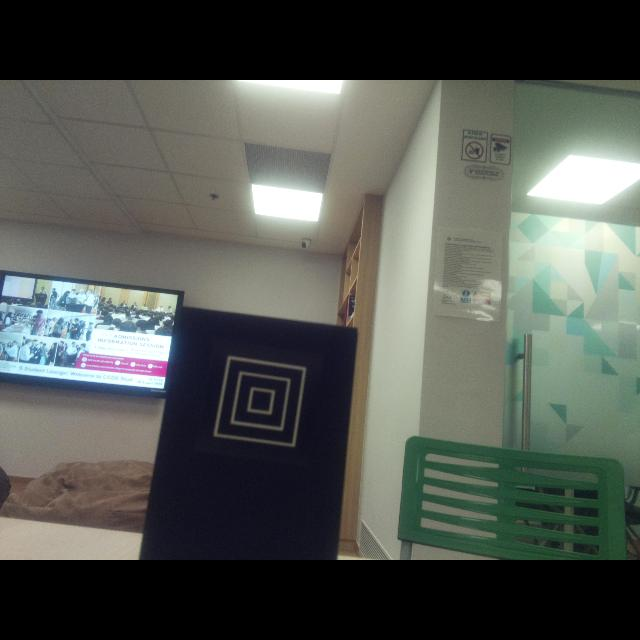BULLSEYE: (212, 349, 307, 449)
